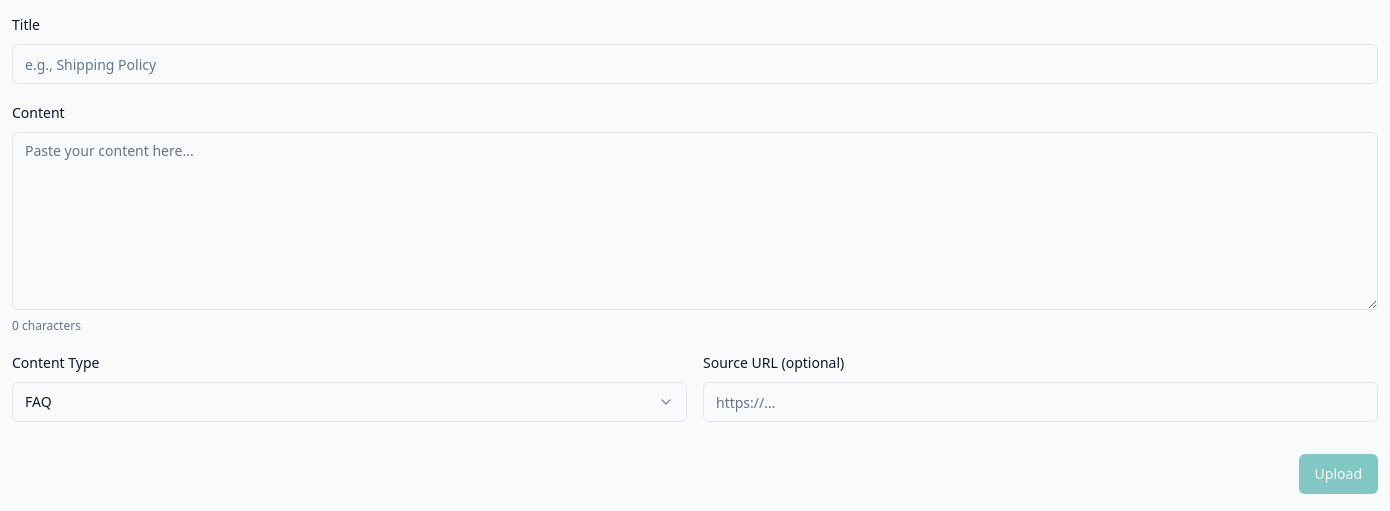
Test case: TextUploadForm › displays character count
Type "Hello" into the text box labelled "Content".
click(695, 221); type("Hello")  # box left=12, top=132, right=1378, bottom=310
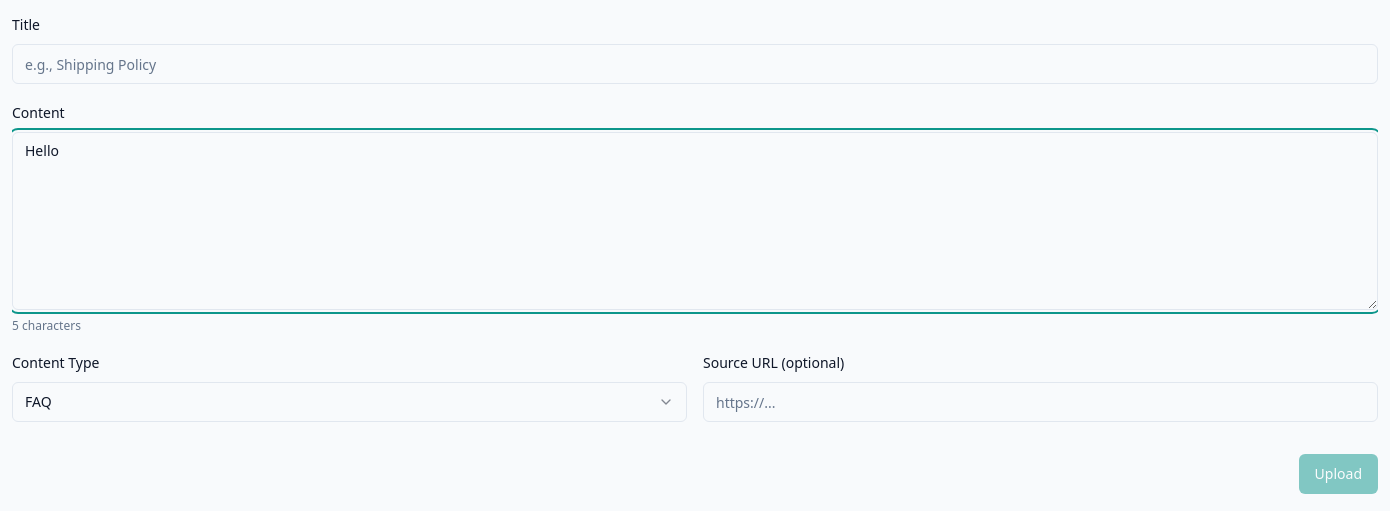
Expected: the text "5 characters" is shown, left=12, top=317, right=81, bottom=334
